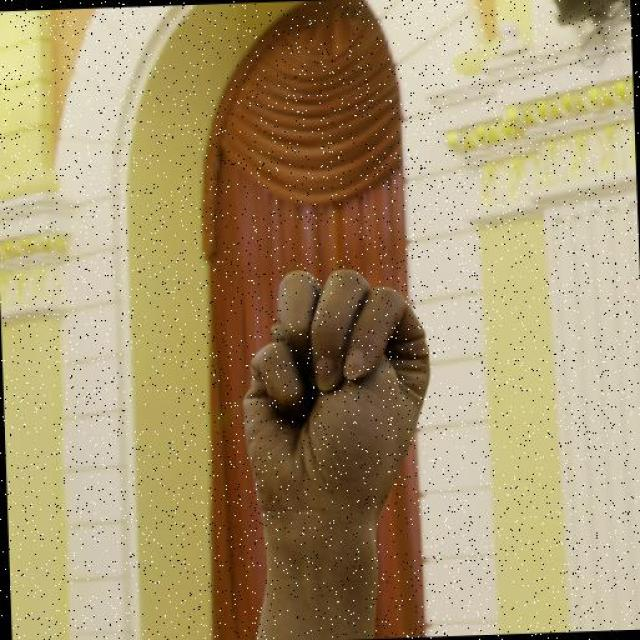M: (228, 262, 439, 524)
